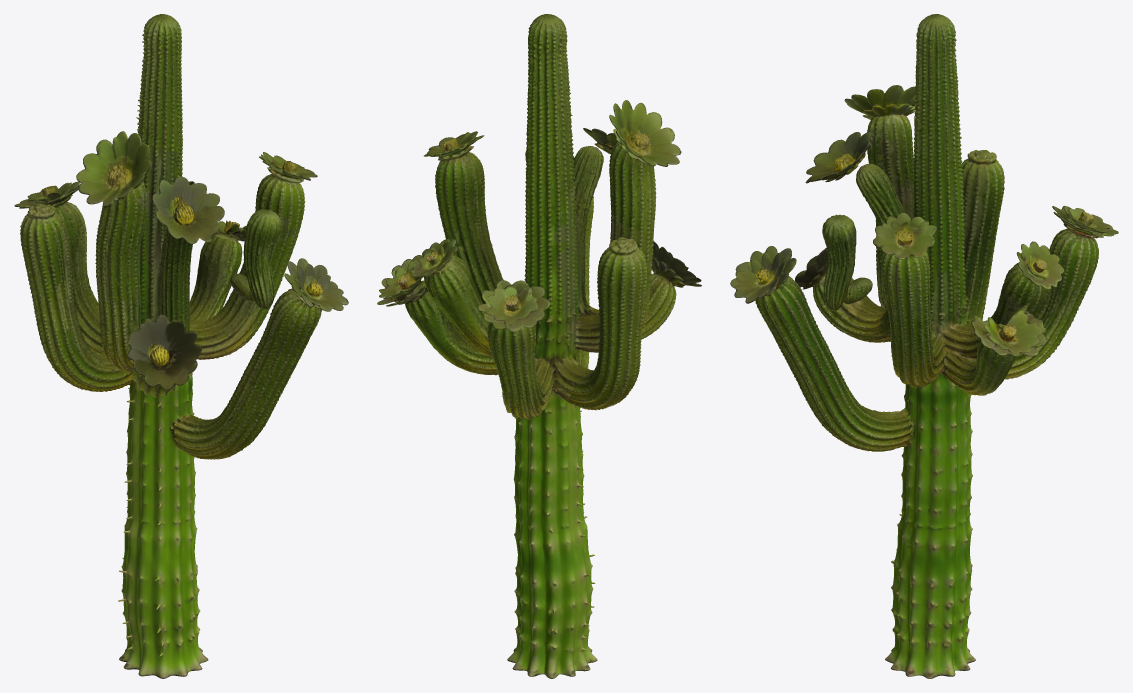
Rendered from cactus_tall.glb.
3 views of the same model, side by side, from view 1: azimuth 30°, elevation 25°; view 2: azimuth 150°, elevation 25°; view 3: azimuth 270°, elevation 25° (orthographic).
Bounding box in the file's own units: 0.8159 × 2 × 1.09.
1 material, 1 textured.
